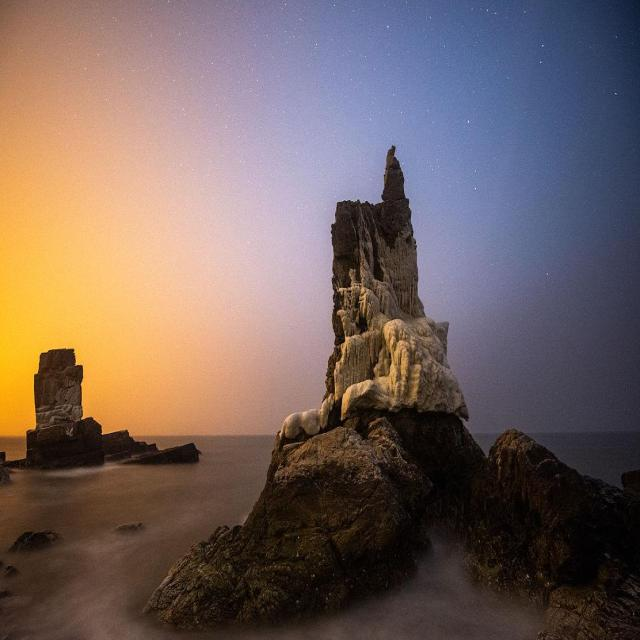reef: (12, 317, 198, 461)
